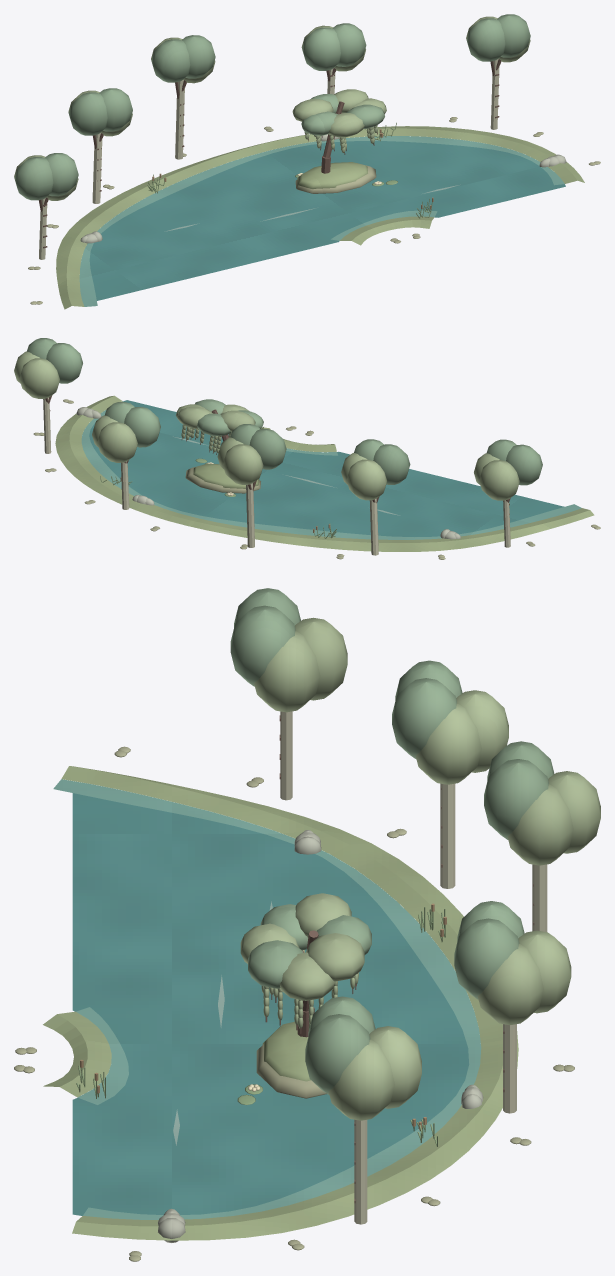
Rendered from village-lake-far.glb.
The picture shows the model from 3 angles, top to bottom: view 1: azimuth 30°, elevation 25°; view 2: azimuth 150°, elevation 25°; view 3: azimuth 270°, elevation 25°; orthographic projection. The views are drawn at different scales.
Visible parts, largest first — view 1: Forest hamlet; view 2: Forest hamlet; view 3: Forest hamlet.
Part boxes in pixels (x1,y1,x2,y2): Forest hamlet: (14,14,600,309); Forest hamlet: (14,338,600,559); Forest hamlet: (14,588,600,1261).
Size of the model in its own units: 24.5 by 5.29 by 11.82.
Materials: 13 (13 with a texture image).
